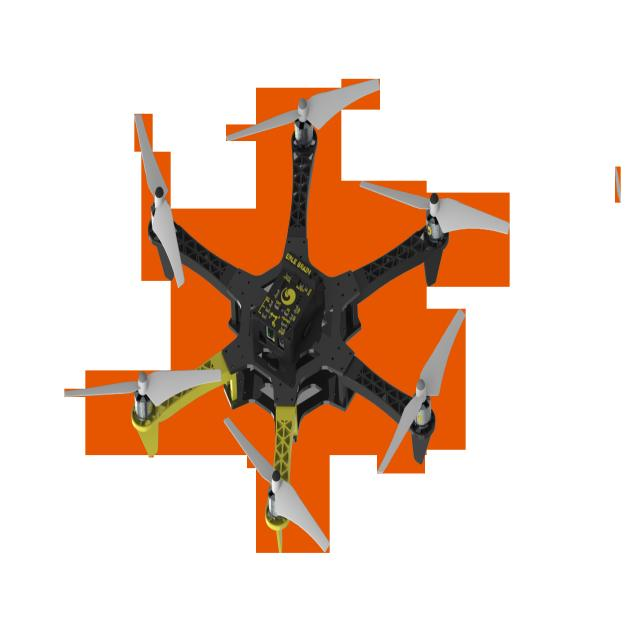drone: (87, 63, 492, 580)
